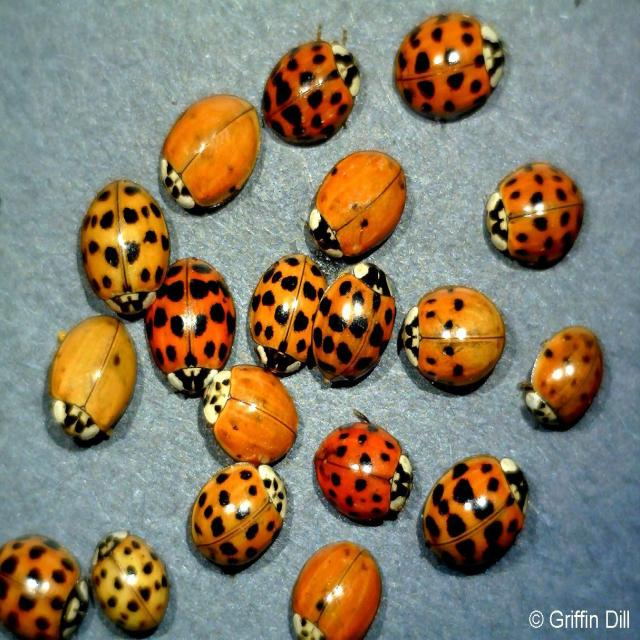ladybug: (144, 258, 236, 395), (81, 179, 170, 317), (422, 455, 527, 568), (394, 13, 504, 119), (160, 94, 260, 209), (397, 285, 505, 388), (48, 316, 137, 440), (262, 33, 358, 144), (308, 150, 406, 258), (486, 162, 584, 266), (190, 462, 286, 568), (312, 262, 395, 382), (314, 422, 412, 521), (202, 365, 298, 465), (248, 254, 326, 374), (0, 535, 89, 639), (291, 541, 381, 639), (520, 326, 603, 429), (91, 532, 169, 636)
